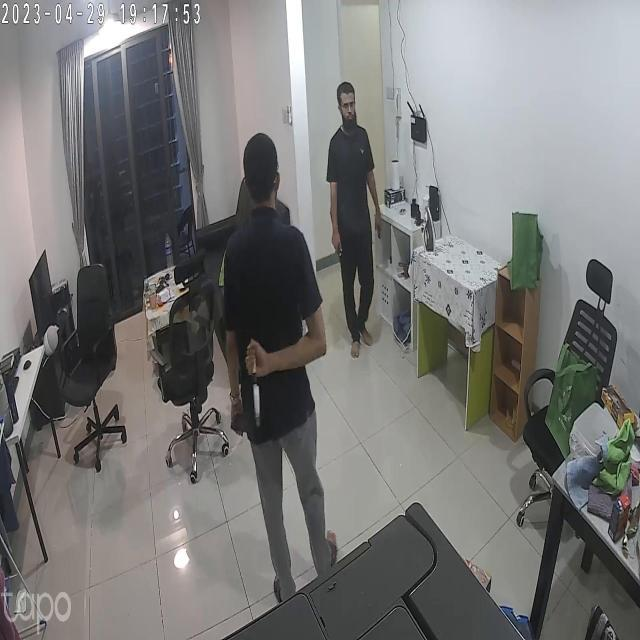Knife: (231, 334, 269, 434)
